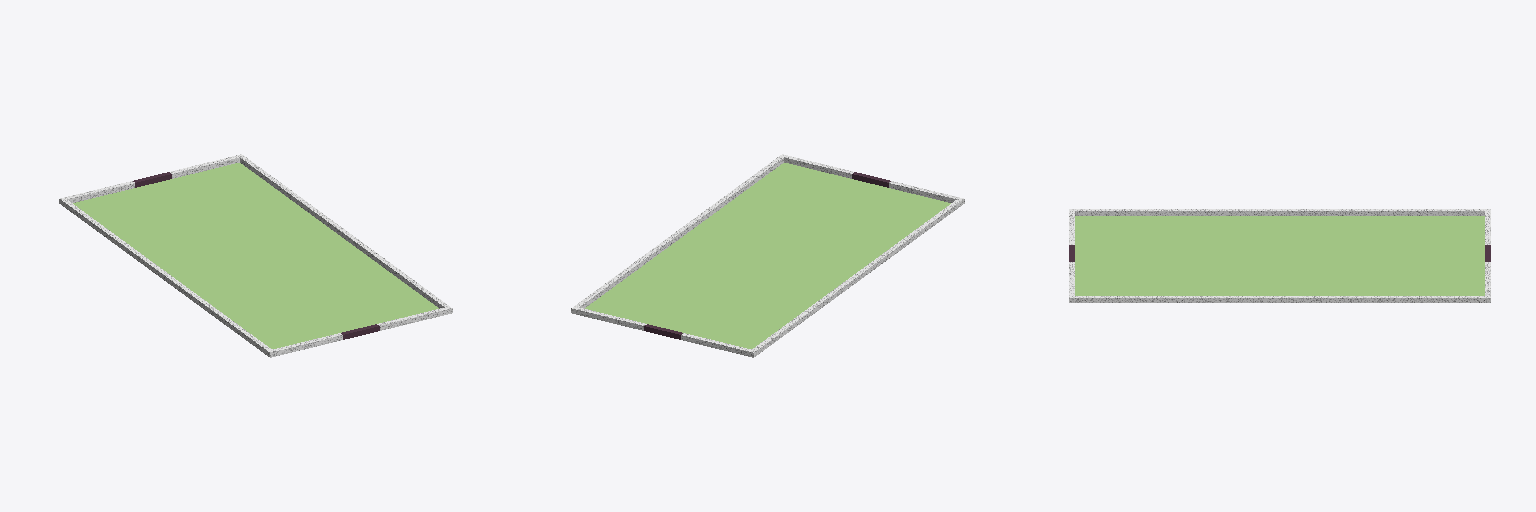
3 renders of one model, left to right at view 1: azimuth 30°, elevation 25°; view 2: azimuth 150°, elevation 25°; view 3: azimuth 270°, elevation 25°, orthographic.
Parts seen in each view (by area): view 1: place, bort2, bort1, bort4, bort3, bort5; view 2: place, bort2, bort1, bort5, bort4, bort6; view 3: place, bort1, bort2.
Part boxes in pixels (left/top/right/bottom): place: left=73, top=163, right=438, bottom=348; bort2: left=59, top=198, right=274, bottom=357; bort1: left=237, top=154, right=452, bottom=313; bort4: left=377, top=308, right=447, bottom=330; bort3: left=272, top=333, right=342, bottom=356; bort5: left=170, top=155, right=239, bottom=178; place: left=585, top=163, right=950, bottom=348; bort2: left=749, top=198, right=964, bottom=357; bort1: left=571, top=154, right=786, bottom=313; bort5: left=576, top=308, right=646, bottom=330; bort4: left=784, top=155, right=853, bottom=178; bort6: left=681, top=333, right=751, bottom=356; place: left=1075, top=216, right=1484, bottom=295; bort1: left=1069, top=296, right=1490, bottom=302; bort2: left=1069, top=209, right=1490, bottom=215.
Bounding box in the file's own units: 75 × 2 × 150.
Materials: 3 (1 with a texture image).